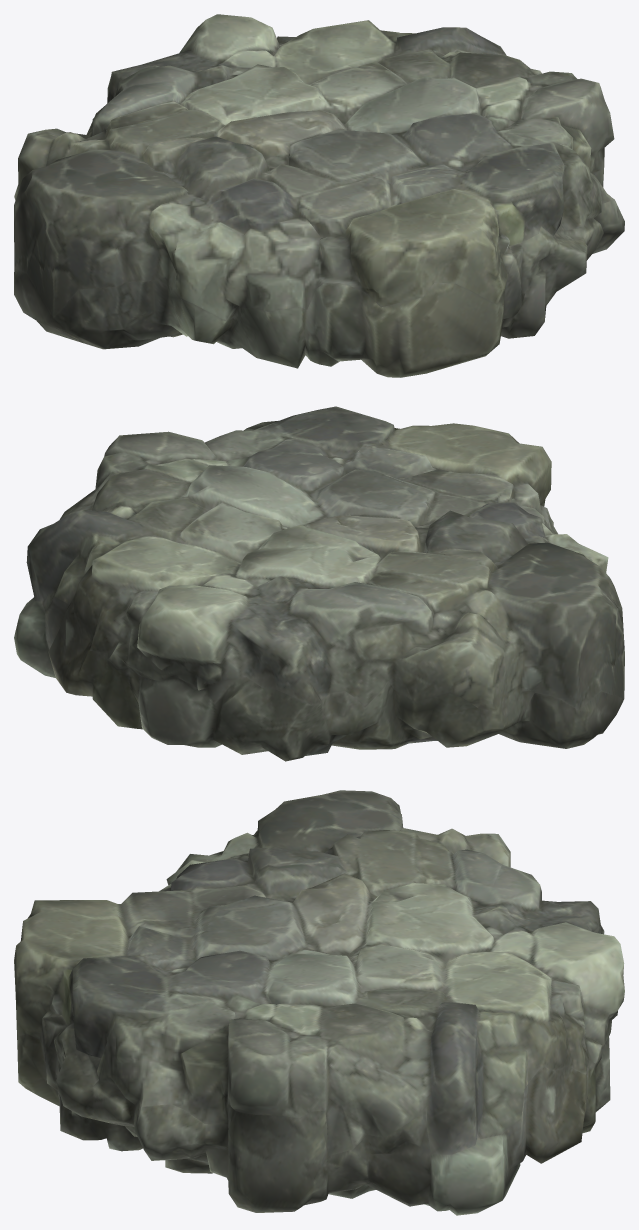
The model's file is RuinsWall_A.fbx.
3 views of the same model, one above another, from view 1: azimuth 30°, elevation 25°; view 2: azimuth 150°, elevation 25°; view 3: azimuth 270°, elevation 25° (orthographic). The views are drawn at different scales.
Visible parts, largest first — view 1: RuinsWall_A; view 2: RuinsWall_A; view 3: RuinsWall_A.
Boxes of the visible parts, x1,y1,x2,y2 form: RuinsWall_A: (14,14,624,377); RuinsWall_A: (14,406,624,761); RuinsWall_A: (14,790,624,1215).
Bounding box in the file's own units: 1088 × 321 × 998.
